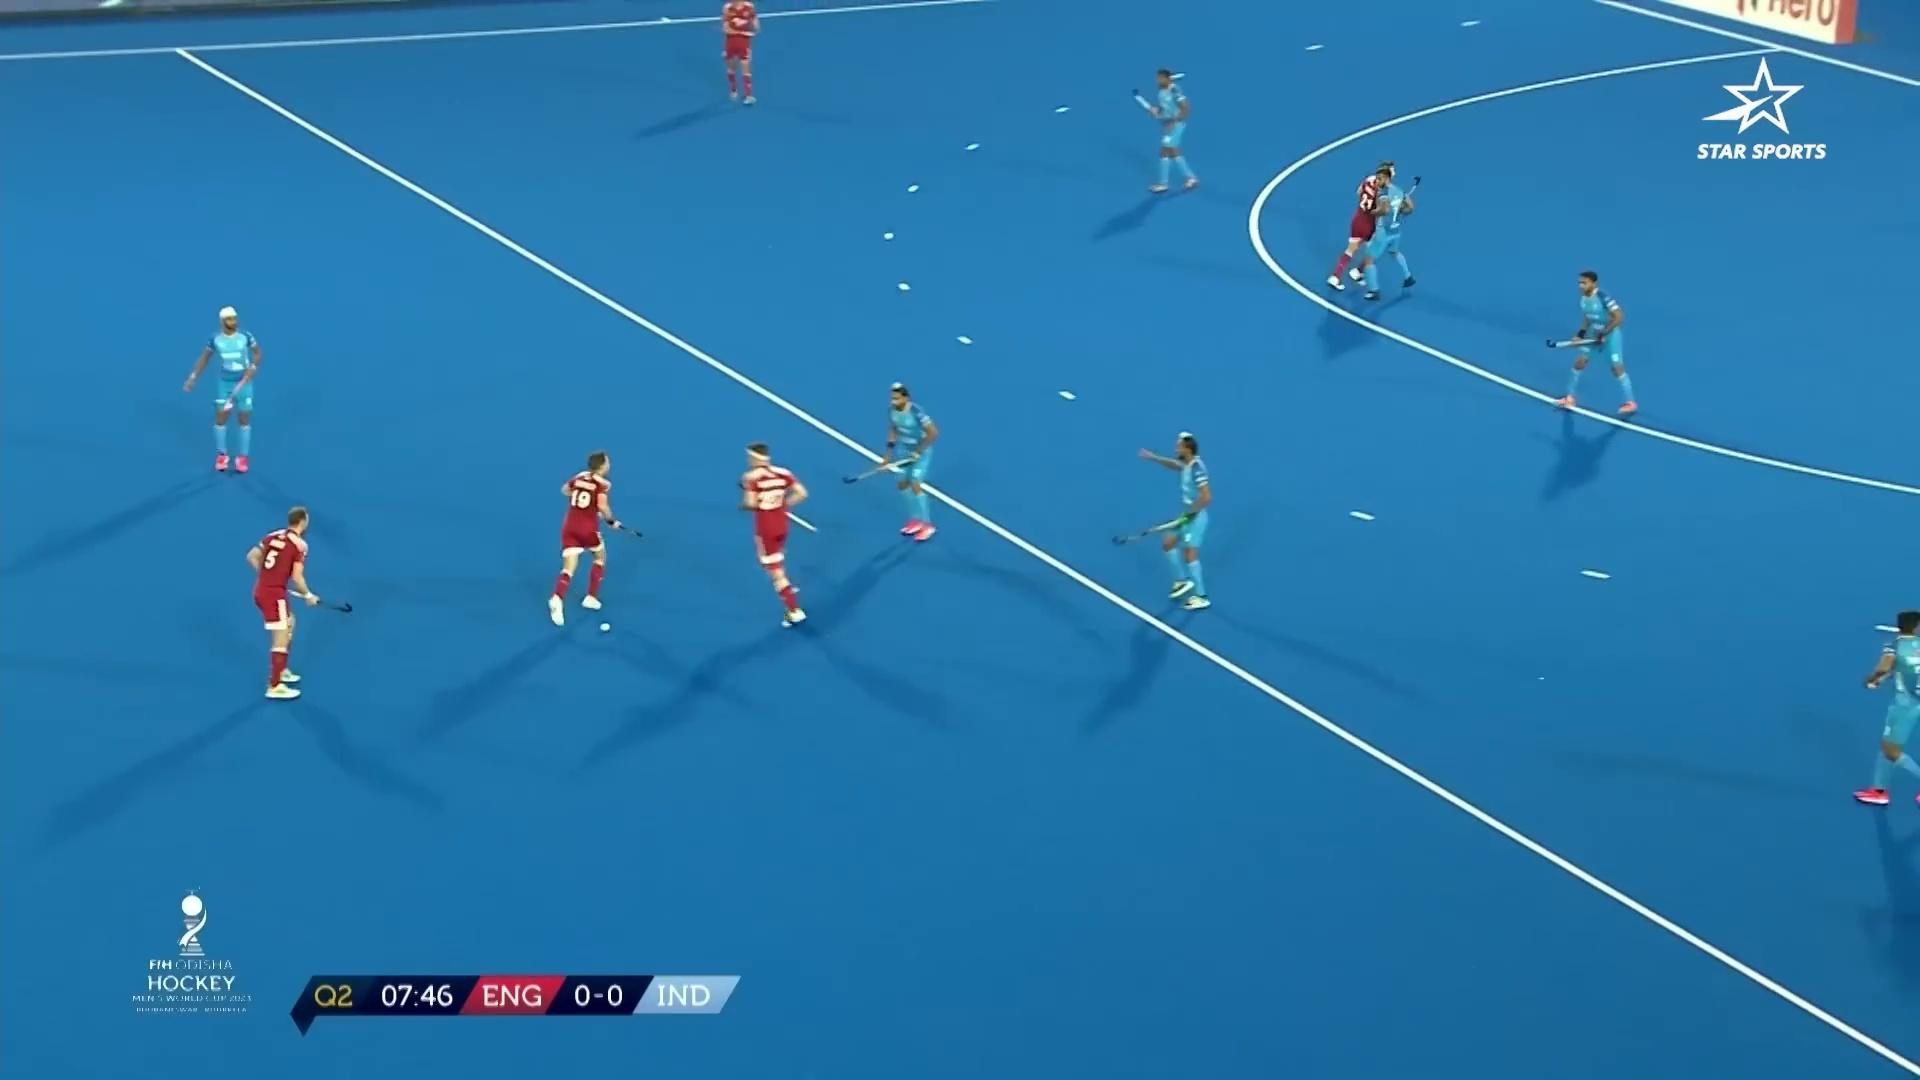ball: (588, 612, 625, 646)
